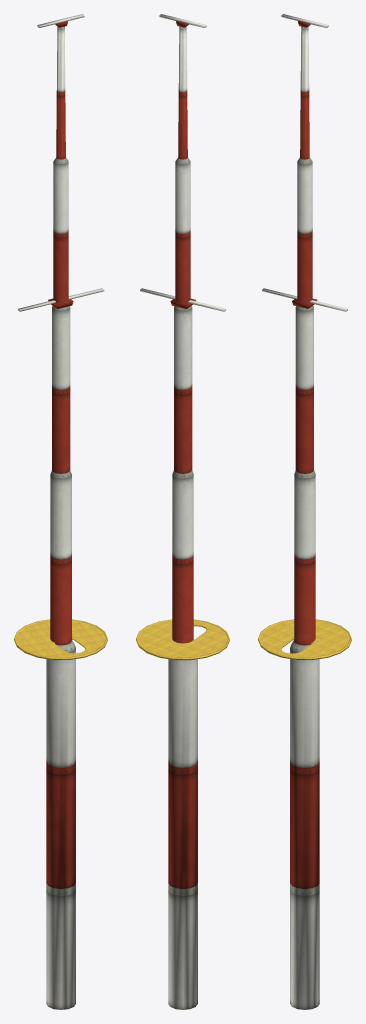
Rendered from arieals_2_lod1.obj.
3 views of the same model, side by side, from view 1: azimuth 30°, elevation 25°; view 2: azimuth 150°, elevation 25°; view 3: azimuth 330°, elevation 25° (orthographic).
Parts seen in each view (by area): view 1: arieals_2_lod1.obj; view 2: arieals_2_lod1.obj; view 3: arieals_2_lod1.obj.
Boxes of the visible parts, bbox=[...] form: arieals_2_lod1.obj: bbox=[14, 14, 107, 1009]; arieals_2_lod1.obj: bbox=[136, 14, 229, 1009]; arieals_2_lod1.obj: bbox=[258, 14, 351, 1009].
Bounding box in the file's own units: 3.1 × 34.6 × 2.99.
Materials: 2 (2 with a texture image).
